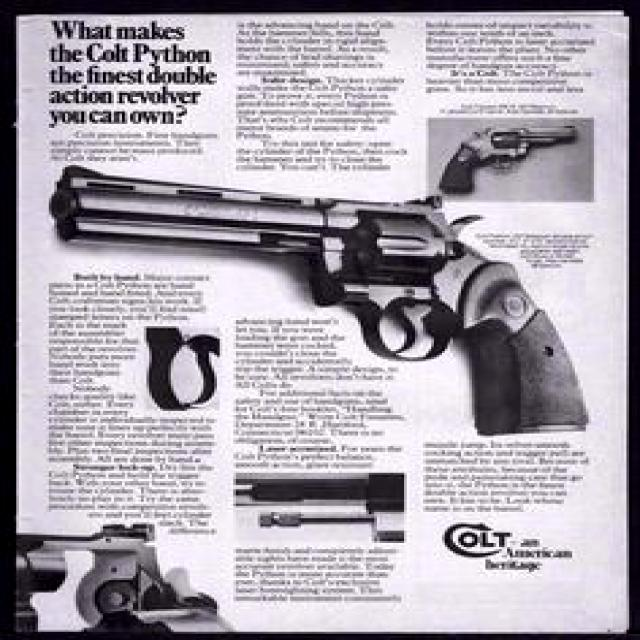revolver: (38, 124, 602, 458)
